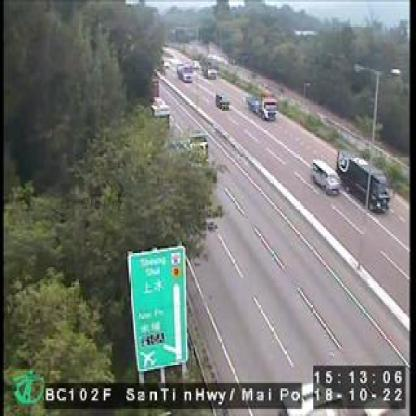Car: (310, 158, 340, 195), (214, 90, 232, 112)
Truck: (336, 150, 390, 214), (246, 88, 278, 122), (197, 55, 219, 80), (176, 62, 194, 83)
